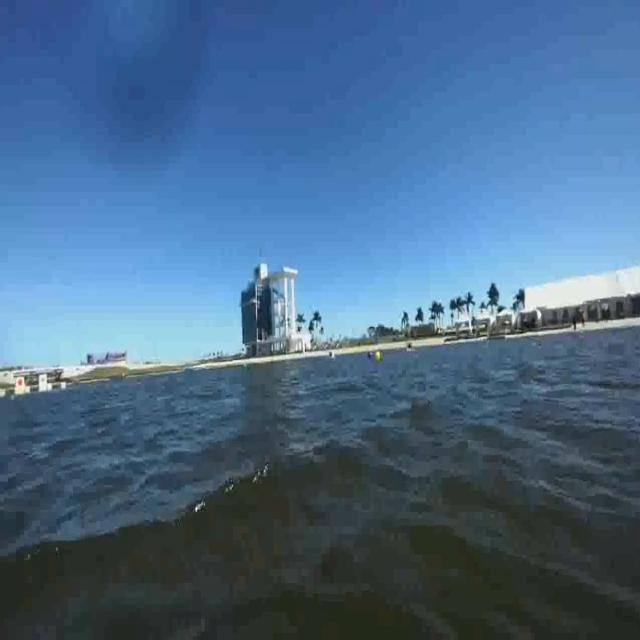yellow-buoy: (376, 350, 383, 363)
